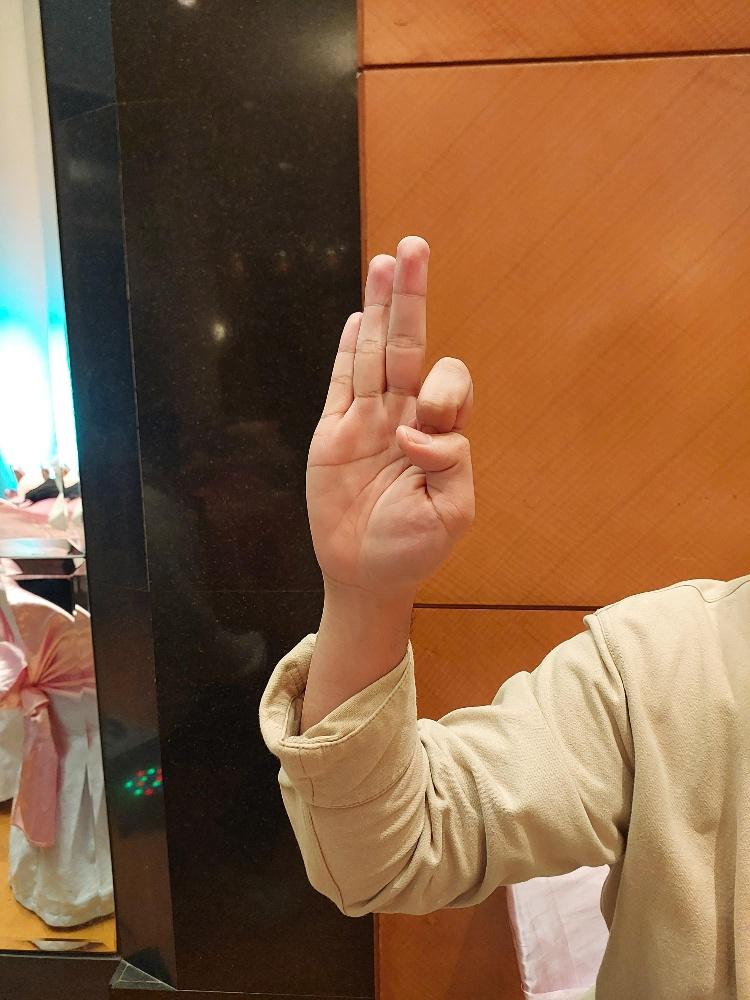f: (304, 232, 478, 592)
